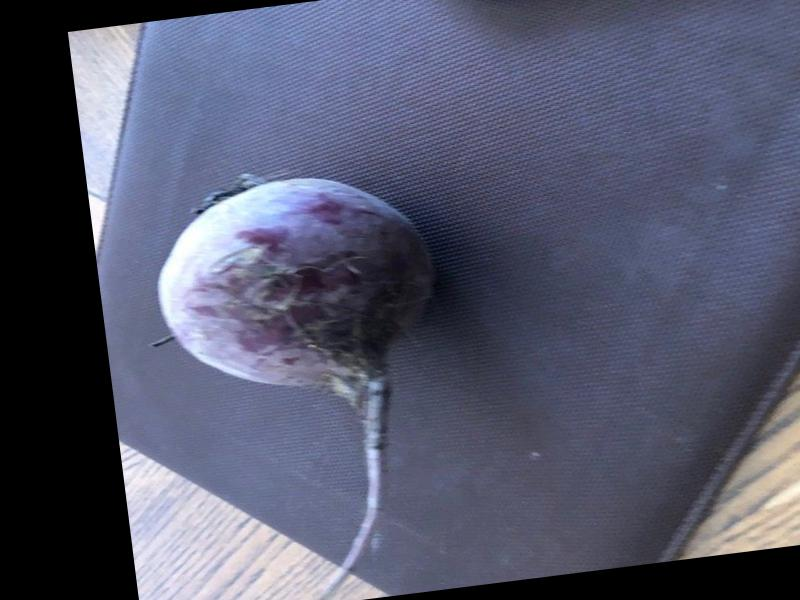Beet: (148, 163, 471, 600)
